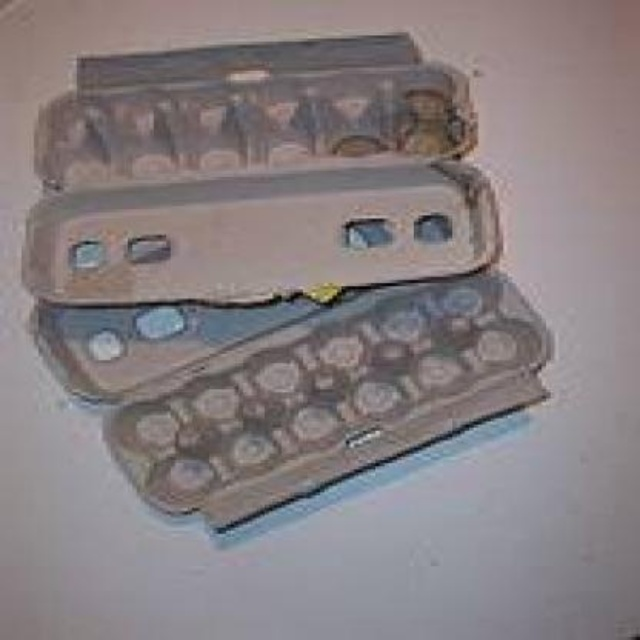trash: (25, 32, 549, 525)
